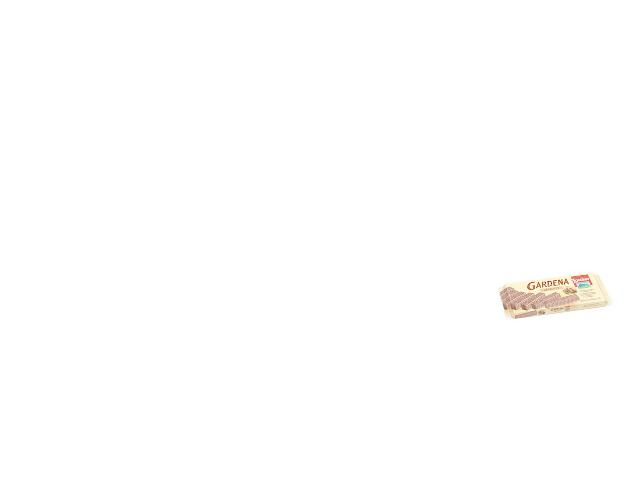chocolate: (492, 271, 615, 314)
